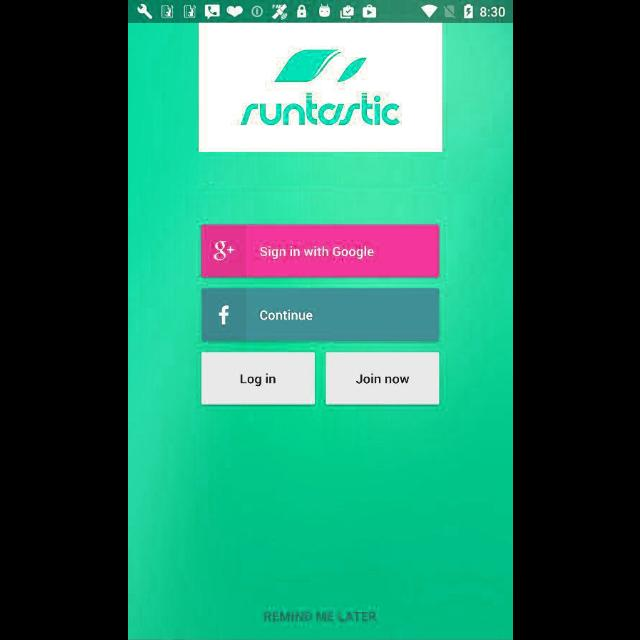image: (198, 24, 442, 152)
text: (264, 610, 376, 622)
textbutton: (201, 288, 439, 342), (201, 224, 439, 278), (325, 352, 439, 406), (201, 351, 315, 405)
uppertaskbar: (128, 1, 512, 23)
